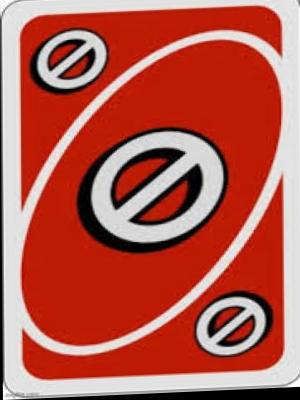red: (4, 0, 300, 399)
skip: (67, 117, 240, 265), (23, 19, 118, 102), (183, 286, 278, 364)
